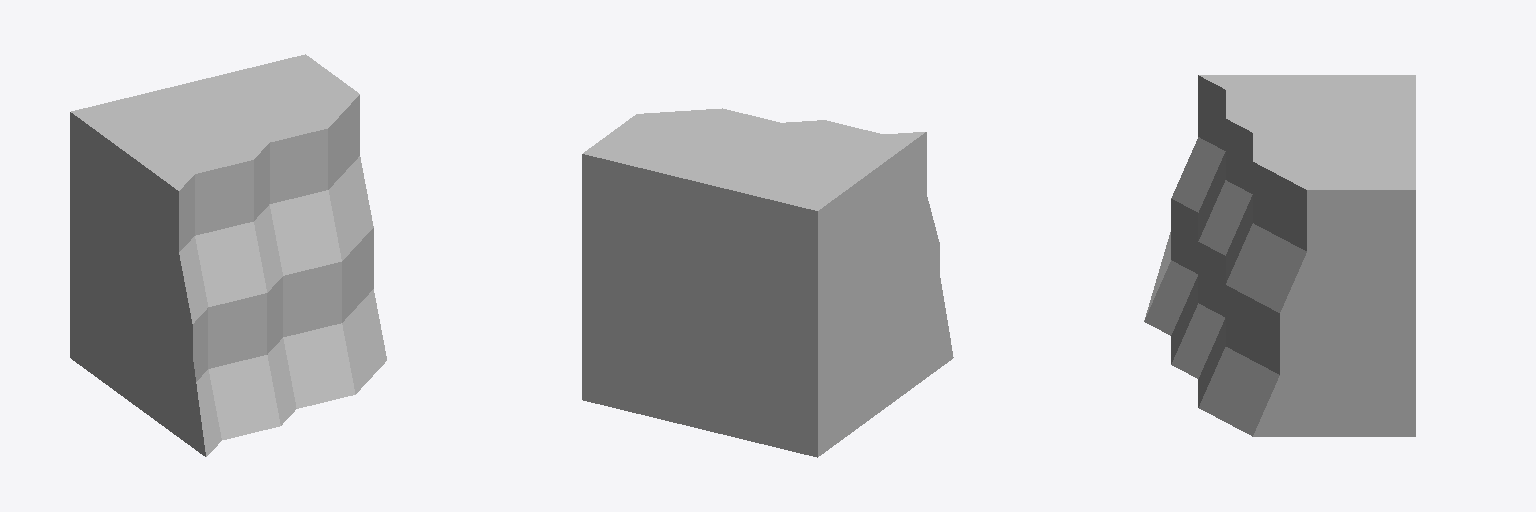
File: door_crown_side_b.obj
The picture shows the model from 3 angles: view 1: azimuth 30°, elevation 25°; view 2: azimuth 150°, elevation 25°; view 3: azimuth 270°, elevation 25°; orthographic projection.
Visible parts, largest first — view 1: Cube.016_Cube.011; view 2: Cube.016_Cube.011; view 3: Cube.016_Cube.011.
Boxes of the visible parts, box(x1,y1,x2,y2) form: Cube.016_Cube.011: box(70, 54, 386, 456); Cube.016_Cube.011: box(582, 108, 953, 457); Cube.016_Cube.011: box(1144, 75, 1415, 436).
Size of the model in its own units: 1 by 1 by 1.